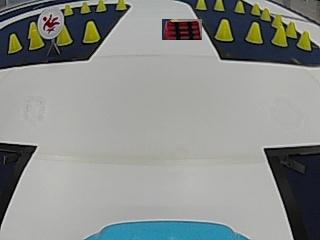cone: (215, 18, 234, 42), (245, 21, 262, 44), (82, 20, 99, 43), (28, 26, 42, 49), (272, 23, 286, 46), (57, 27, 72, 46), (297, 30, 311, 50), (8, 32, 21, 53), (286, 20, 296, 38), (233, 0, 244, 14), (261, 6, 270, 21), (80, 1, 90, 14), (63, 3, 73, 16), (251, 2, 260, 16), (96, 0, 106, 12), (214, 0, 224, 11), (116, 0, 126, 10), (196, 0, 206, 10)
tumble: (39, 11, 61, 36)
